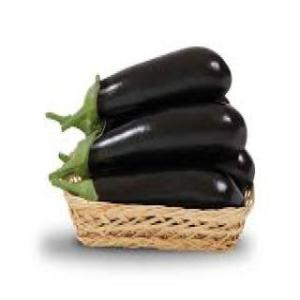eggplant: (79, 102, 252, 176), (87, 46, 232, 118), (69, 143, 256, 187), (79, 169, 248, 209)
